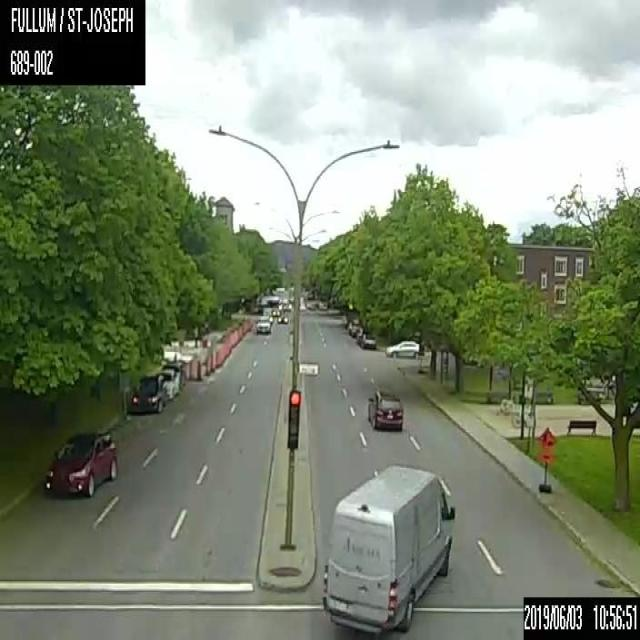construction: (538, 424, 556, 493), (194, 360, 202, 380), (186, 358, 194, 378), (203, 354, 210, 374), (210, 352, 214, 371), (214, 351, 218, 367), (202, 338, 206, 346)
vehicle: (322, 463, 454, 632), (44, 426, 116, 494), (365, 389, 403, 432), (130, 373, 165, 412), (154, 368, 179, 399), (384, 338, 420, 358), (254, 315, 271, 333), (360, 332, 376, 348), (276, 312, 288, 324)
